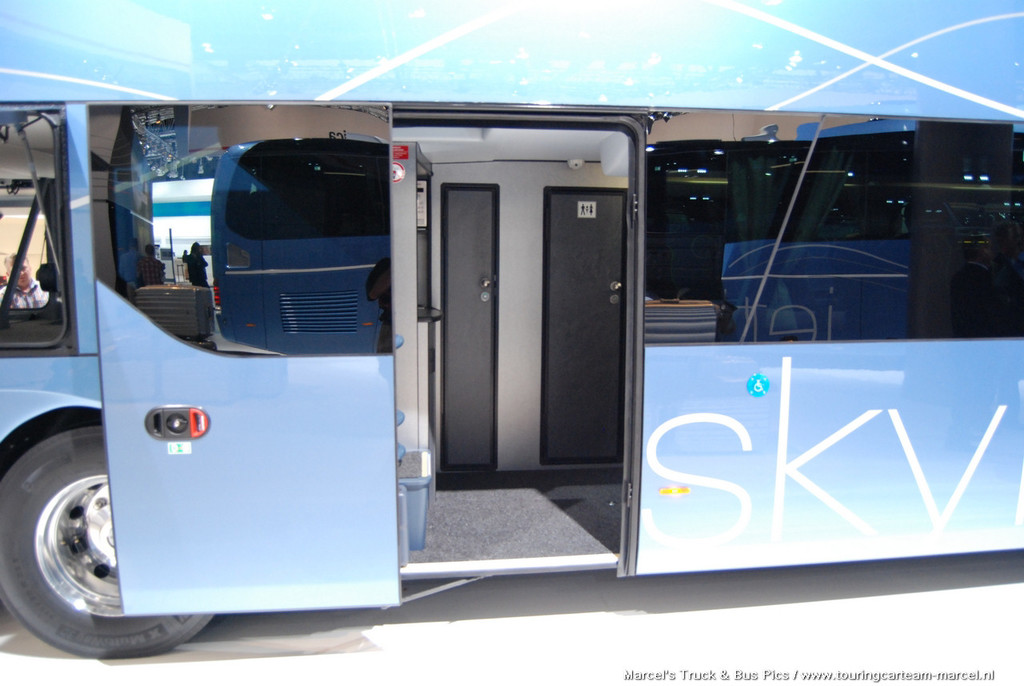Bus: (0, 0, 1023, 653)
